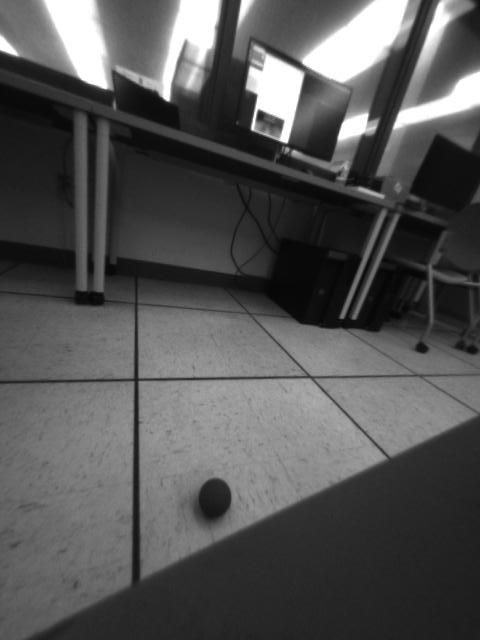dogtoy: (185, 467, 243, 529)
